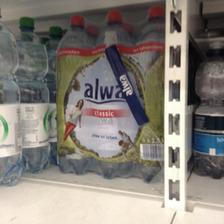Wasser: (92, 9, 132, 180), (130, 3, 162, 186), (16, 16, 52, 172), (54, 16, 90, 172)
